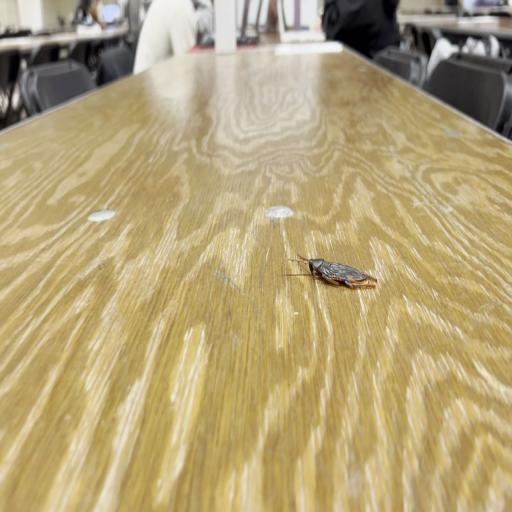cockroach: (288, 252, 378, 291)
